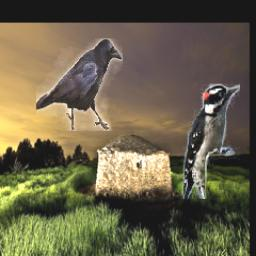Crow: (35, 38, 122, 131)
Woodpecker: (182, 85, 240, 200)
